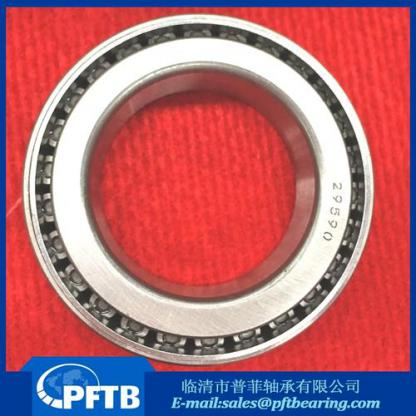FOD: (17, 11, 377, 367)
